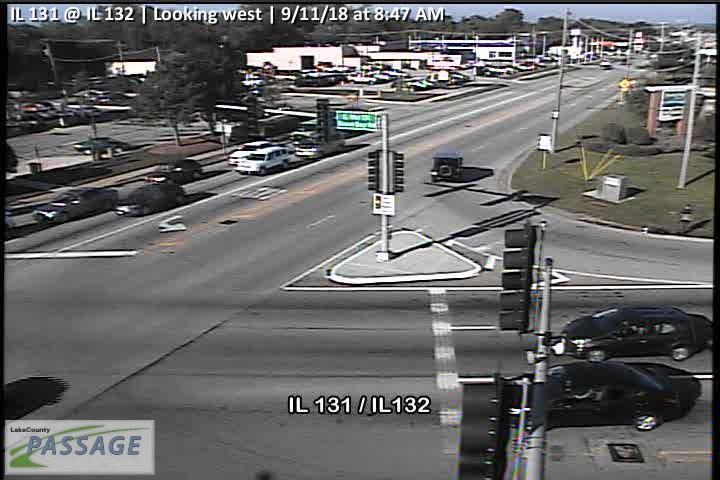Sedan: (494, 356, 702, 430), (549, 305, 715, 364), (33, 188, 118, 222), (111, 182, 187, 219), (231, 145, 295, 175), (143, 157, 203, 185), (226, 141, 278, 166), (72, 136, 130, 156), (429, 150, 463, 183)
